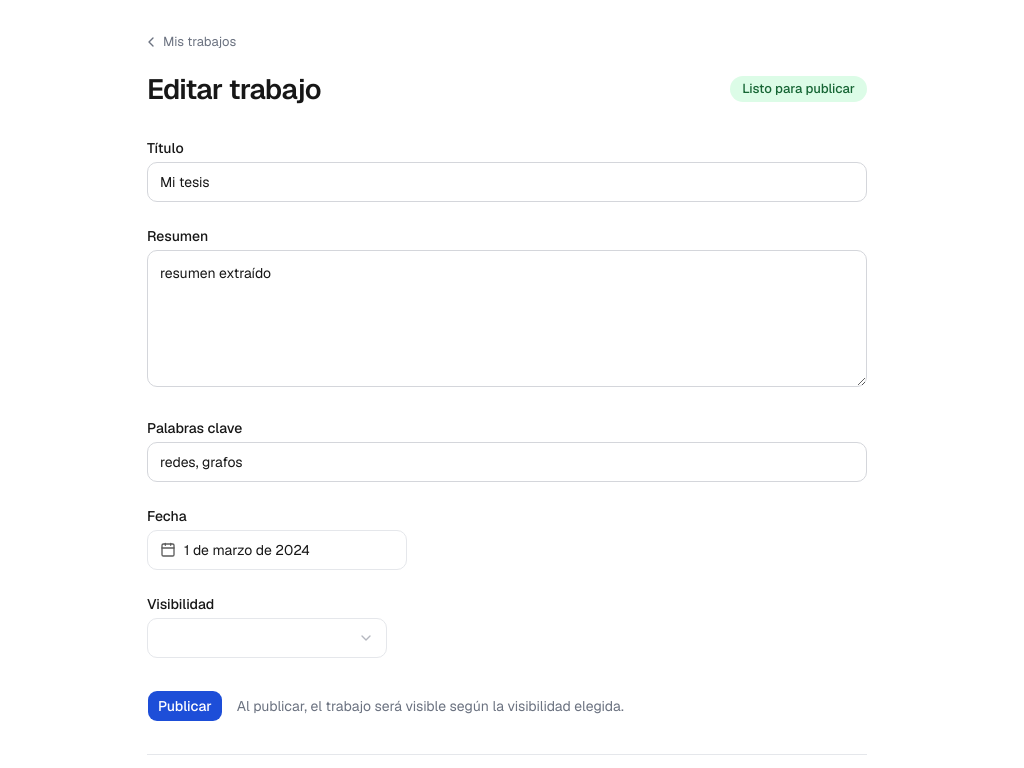
editar page › Restaurar reverts título to its saved value
The image size is (1024, 768).
Step 1. Replace the text in the field labelled "Título" with "Otro título" → coordinates (507, 182), box [147,162,867,202]
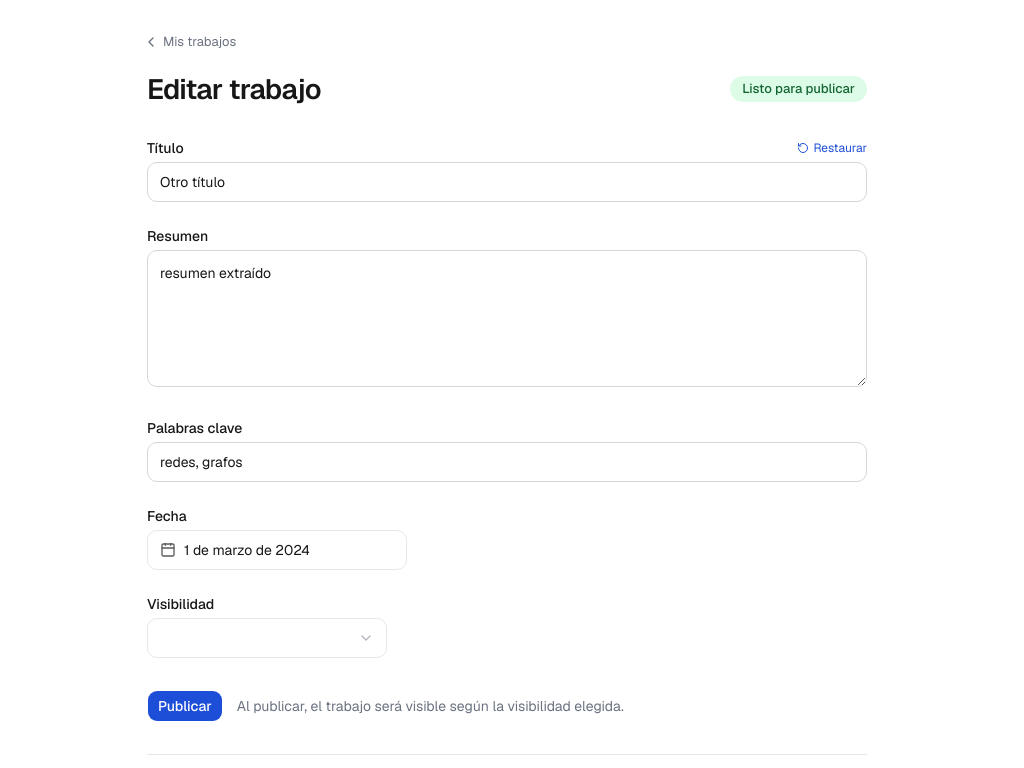
Step 2. Click the button with test id "restore-titulo" → coordinates (832, 148), box [797,140,867,156]
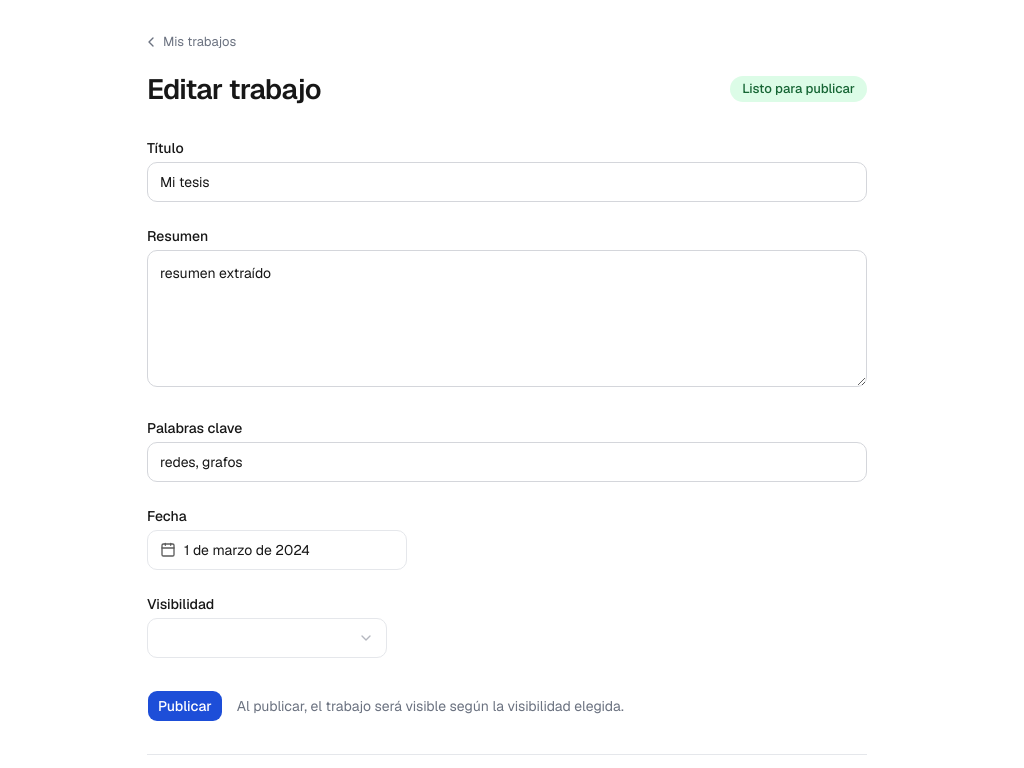
Now the field labelled "Título" holds "Mi tesis", box [147,162,867,202]
Now the button with test id "restore-titulo" is gone
